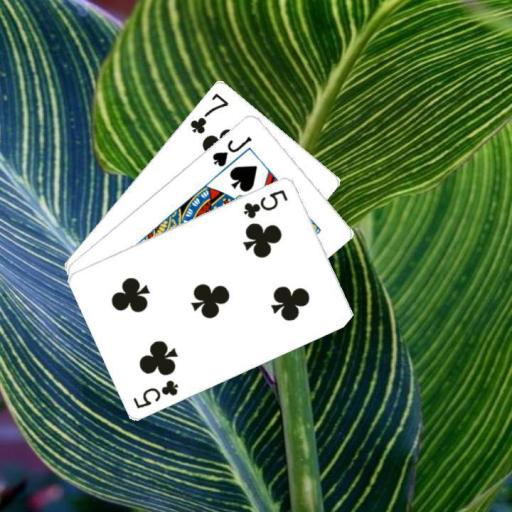5C: (130, 376, 181, 410), (241, 186, 290, 220)
7C: (187, 90, 231, 135)
JS: (209, 132, 253, 169)
